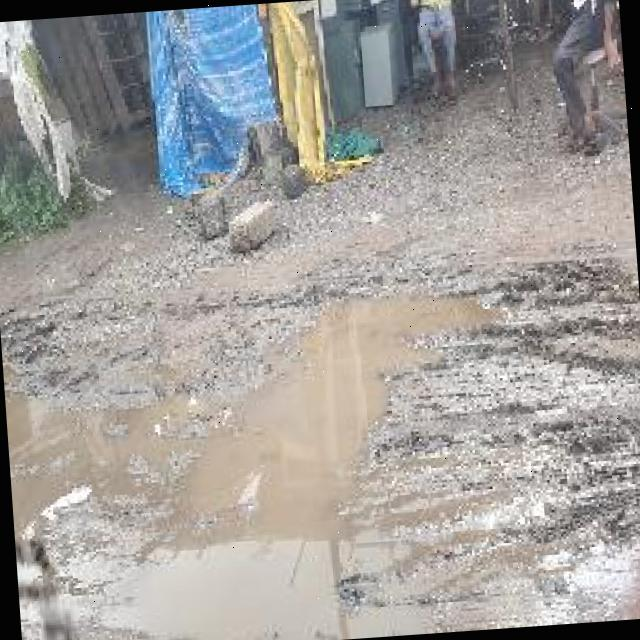stagnation: (118, 269, 530, 574)
